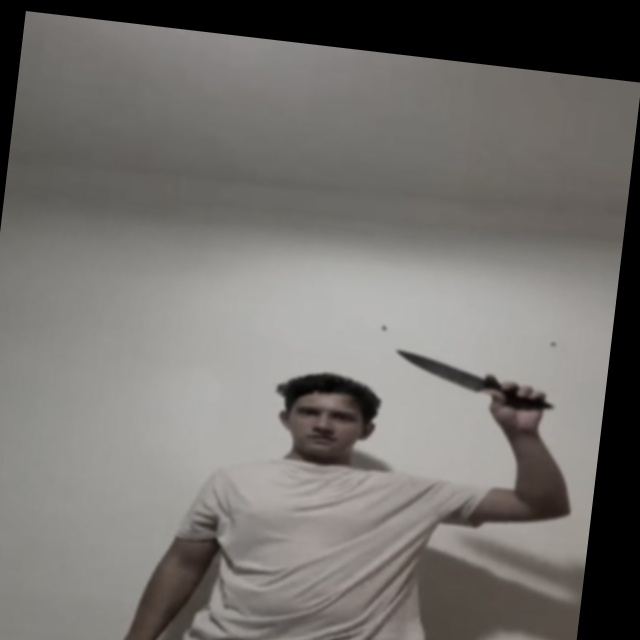Sharp-Object: (397, 348, 486, 392)
